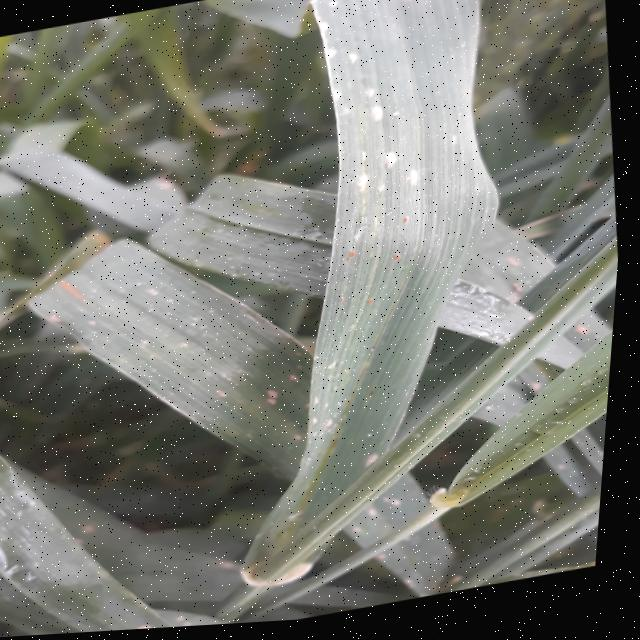powder_mildew: (182, 0, 567, 630), (26, 266, 348, 508), (473, 225, 625, 410), (81, 585, 246, 635)
